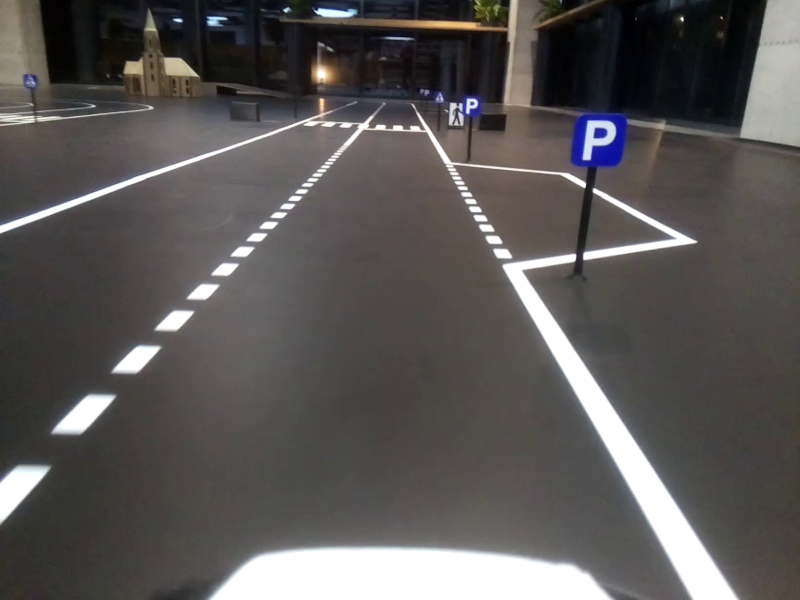park: (573, 117, 627, 168)
